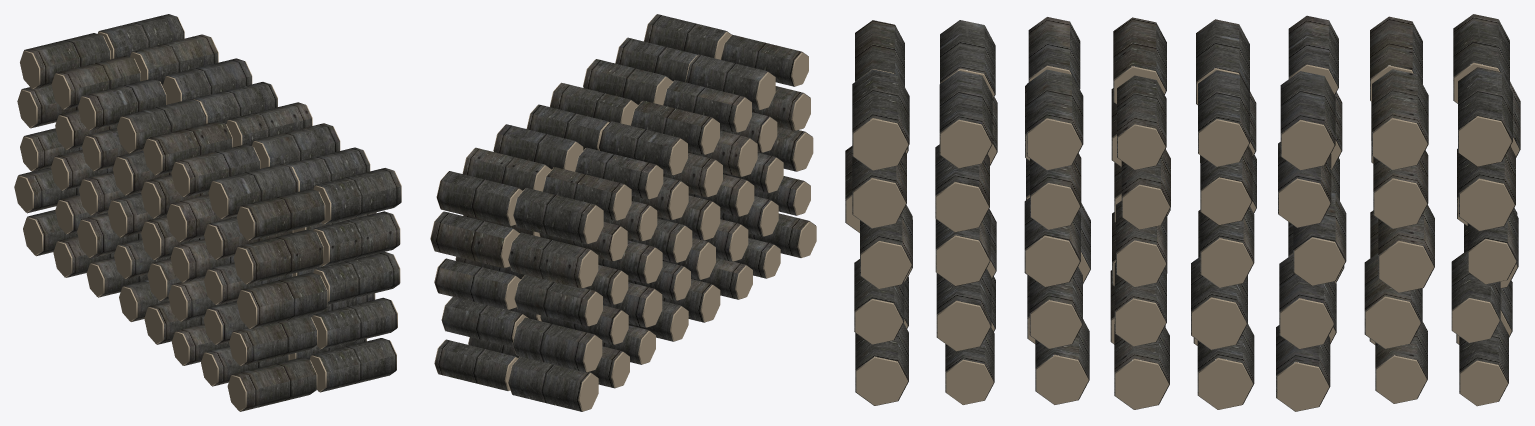
The model's file is woodpile.glb.
The picture shows the model from 3 angles, left to right: view 1: azimuth 30°, elevation 25°; view 2: azimuth 150°, elevation 25°; view 3: azimuth 270°, elevation 25°; orthographic projection. The views are drawn at different scales.
Visible parts, largest first — view 1: woodpile; view 2: woodpile; view 3: woodpile.
Part boxes in pixels (x1=…): woodpile: x1=14, y1=14, x2=401, y2=411; woodpile: x1=430, y1=14, x2=816, y2=411; woodpile: x1=845, y1=14, x2=1520, y2=411.
Size of the model in its own units: 0.9147 by 1.12 by 2.35.
2 materials, 1 textured.
